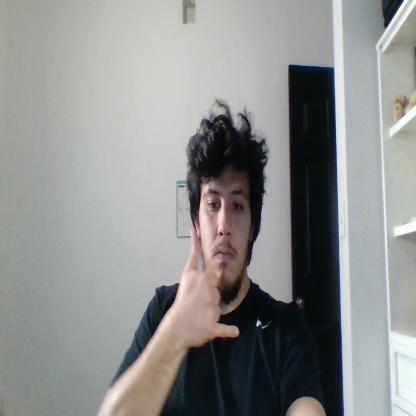Y: (174, 230, 239, 347)
